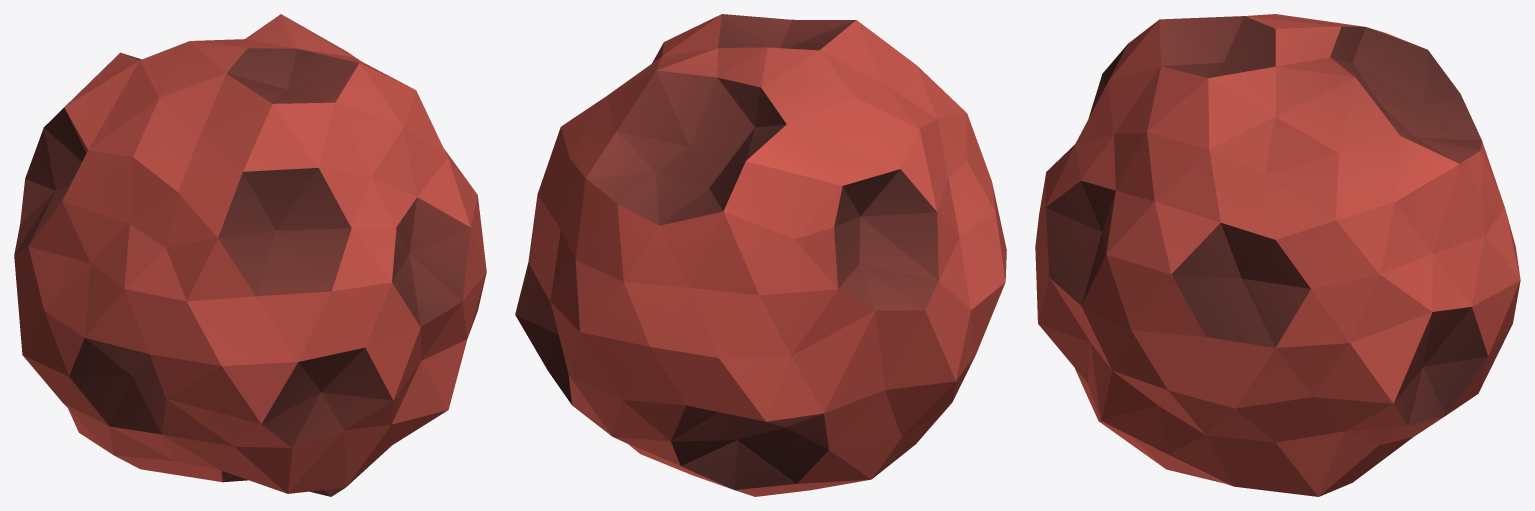
Rendered from meteor.fbx.
The picture shows the model from 3 angles, left to right: view 1: azimuth 30°, elevation 25°; view 2: azimuth 150°, elevation 25°; view 3: azimuth 270°, elevation 25°; orthographic projection. The views are drawn at different scales.
Parts seen in each view (by area): view 1: Icosphere.007; view 2: Icosphere.007; view 3: Icosphere.007.
Boxes of the visible parts, x1,y1,x2,y2 form: Icosphere.007: (14, 14, 486, 496); Icosphere.007: (515, 14, 1006, 496); Icosphere.007: (1035, 14, 1520, 496).
Size of the model in its own units: 144 by 142 by 144.
